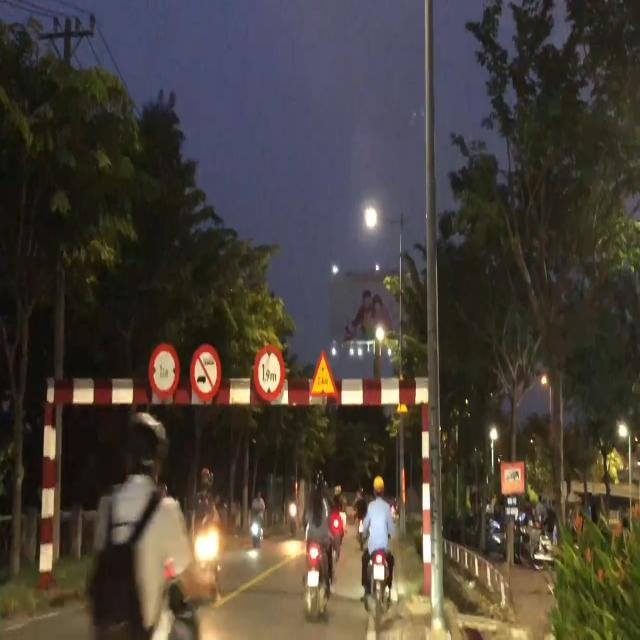Bien bao cam xe oto khach va xe oto tai: (190, 341, 226, 402)
Bien bao chieu cao tinh khong thuc te: (307, 346, 339, 403)
Bien bao han che chieu cao: (252, 340, 288, 407)
